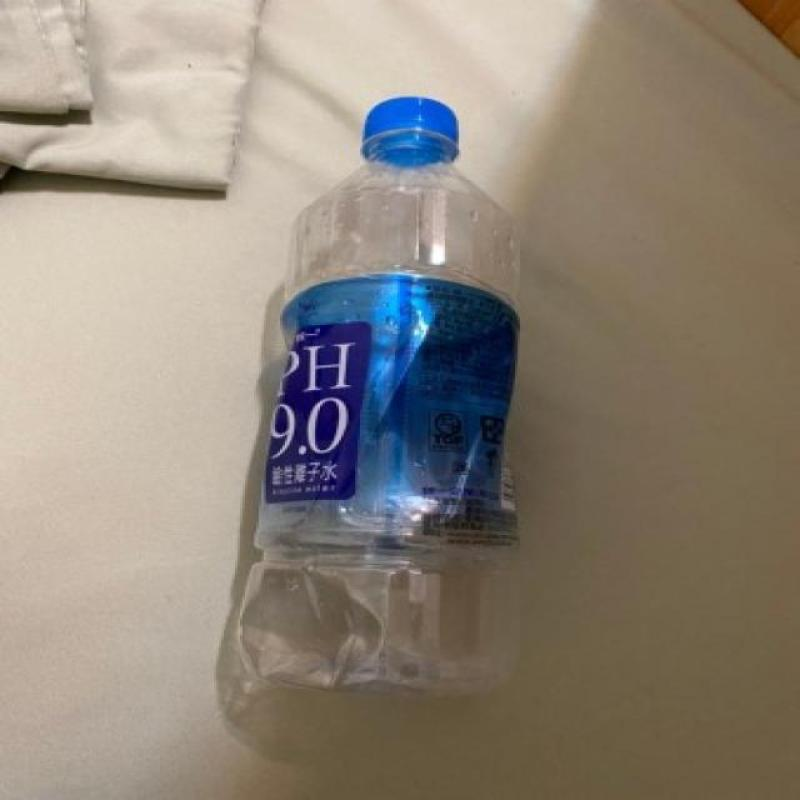botella: (238, 98, 522, 696)
